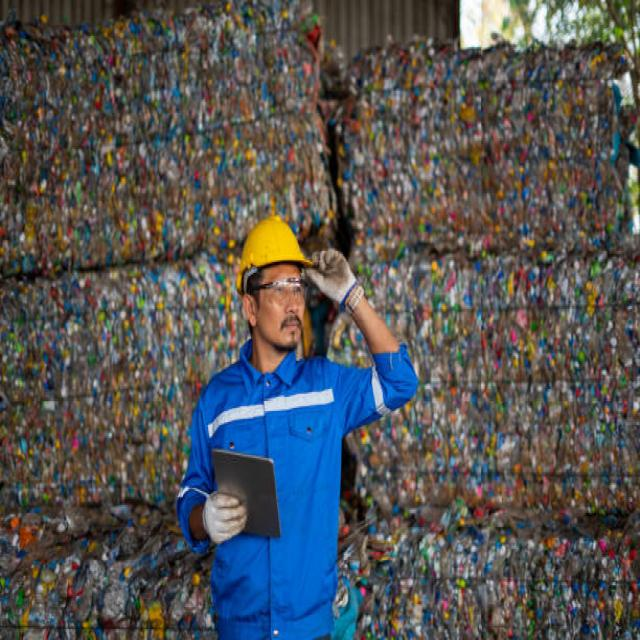plastic: (355, 75, 640, 476), (1, 35, 343, 229)
